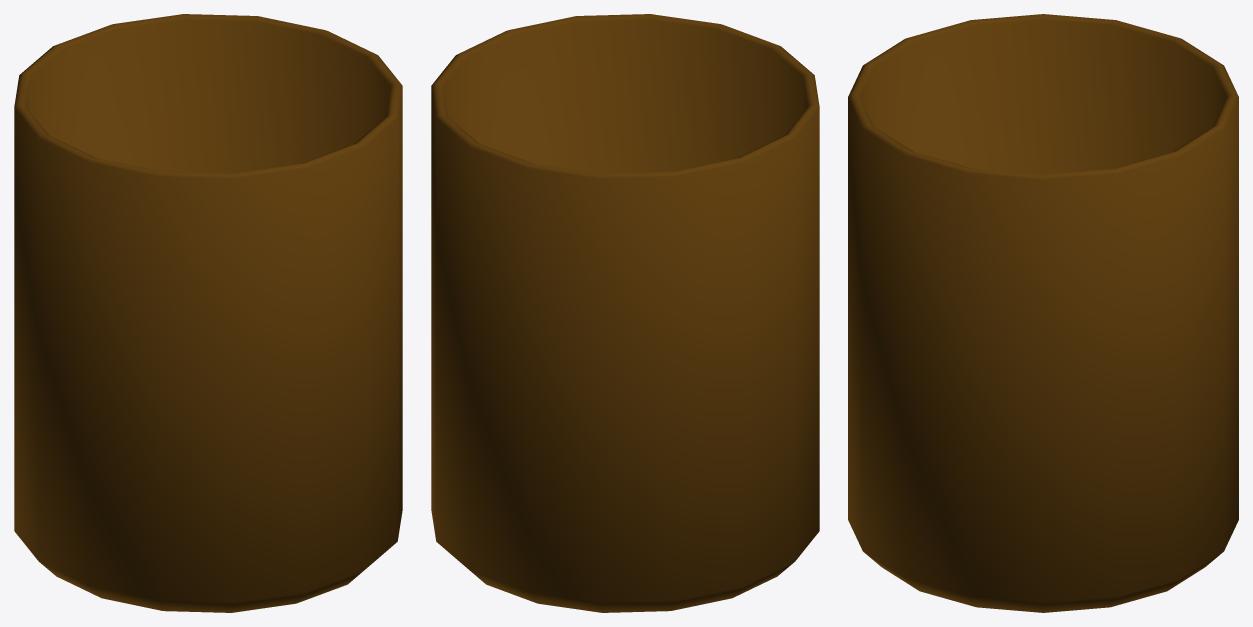
Rendered from Bicchiere2.FBX.
3 views of the same model, side by side, from view 1: azimuth 30°, elevation 25°; view 2: azimuth 150°, elevation 25°; view 3: azimuth 270°, elevation 25° (orthographic).
Parts seen in each view (by area): view 1: Bicchiere2; view 2: Bicchiere2; view 3: Bicchiere2.
Boxes of the visible parts, bbox=[...] form: Bicchiere2: bbox=[14, 14, 402, 612]; Bicchiere2: bbox=[431, 14, 819, 612]; Bicchiere2: bbox=[848, 14, 1238, 612].
Size of the model in its own units: 8.72 by 10.94 by 8.72.
